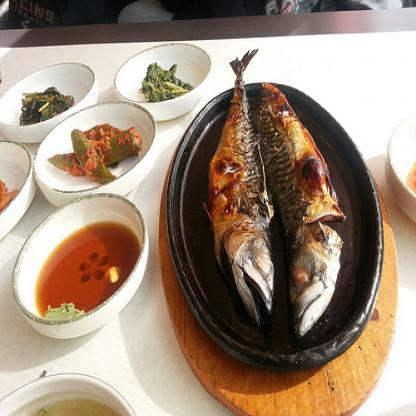Peixe: (197, 55, 344, 342)
